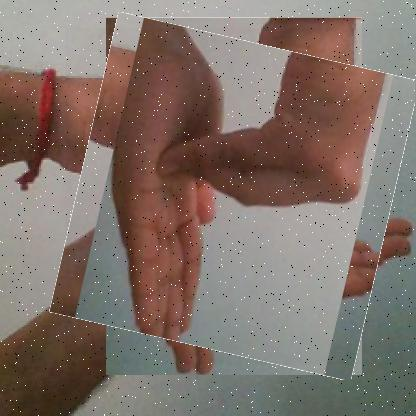Z: (65, 28, 404, 366)
